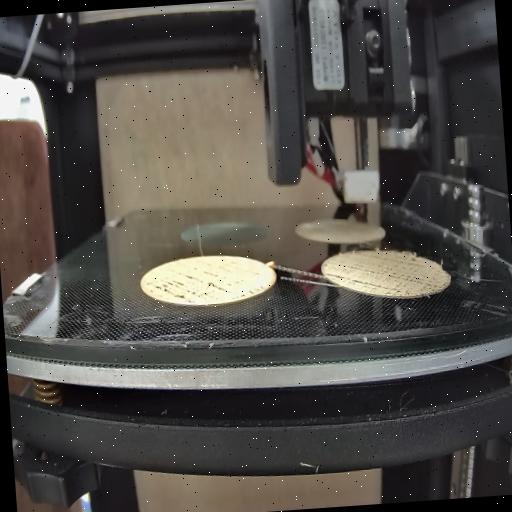under_extrusion: (324, 254, 438, 297), (141, 267, 264, 304)
